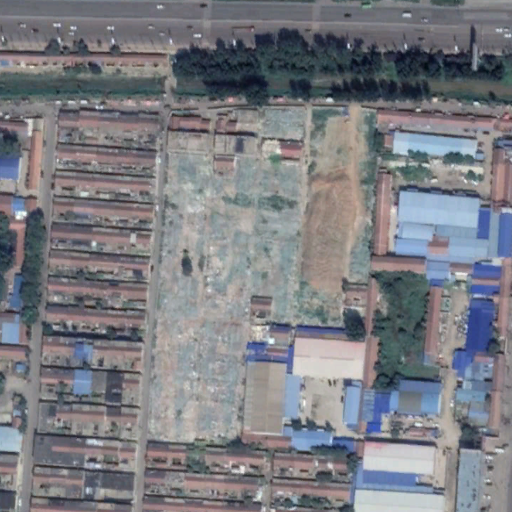cw: (145, 105, 376, 450)
